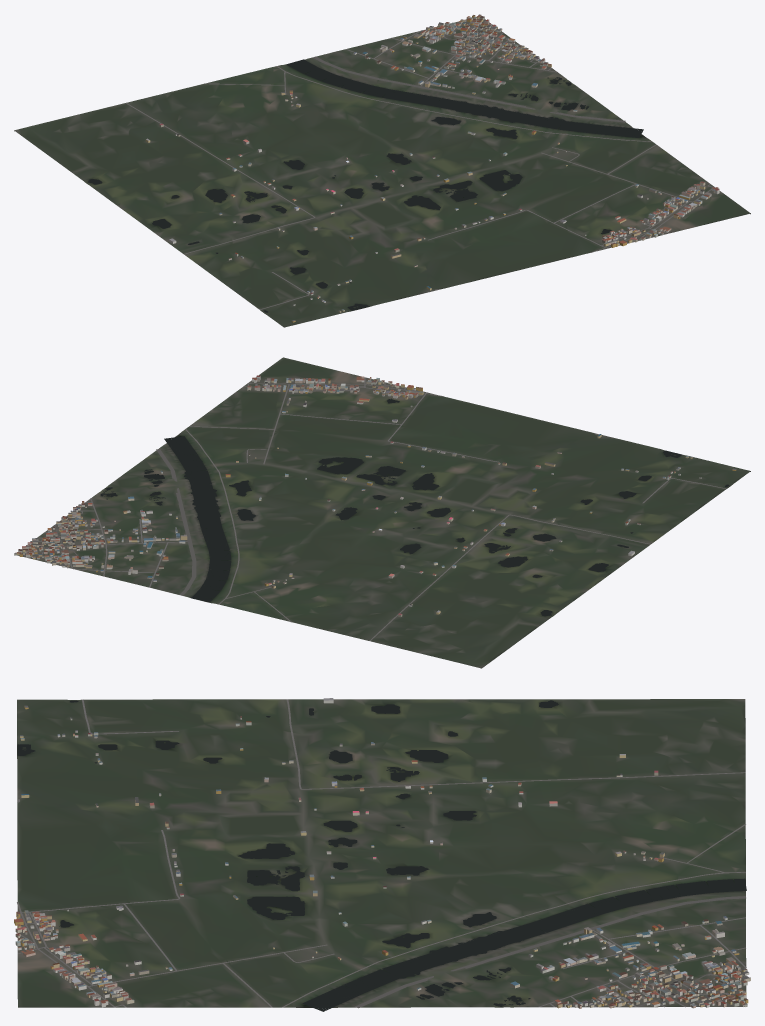
3 renders of one model, top to bottom at view 1: azimuth 30°, elevation 25°; view 2: azimuth 150°, elevation 25°; view 3: azimuth 270°, elevation 25°, orthographic. The views are drawn at different scales.
Parts seen in each view (by area): view 1: ground, water, buildings, roads; view 2: ground, water, buildings, roads; view 3: ground, water, buildings, roads.
Boxes of the visible parts, left/top/right/bottom form: ground: left=14, top=18, right=750, bottom=327; water: left=87, top=59, right=643, bottom=312; buildings: left=145, top=14, right=719, bottom=322; roads: left=125, top=22, right=714, bottom=309; ground: left=14, top=357, right=750, bottom=668; water: left=100, top=398, right=729, bottom=616; buildings: left=14, top=375, right=736, bottom=616; roads: left=24, top=377, right=726, bottom=641; ground: left=17, top=699, right=746, bottom=1007; water: left=17, top=700, right=746, bottom=1011; buildings: left=14, top=698, right=750, bottom=1008; roads: left=17, top=699, right=746, bottom=1008.
Size of the model in its own units: 1423 by 14.42 by 1418.
